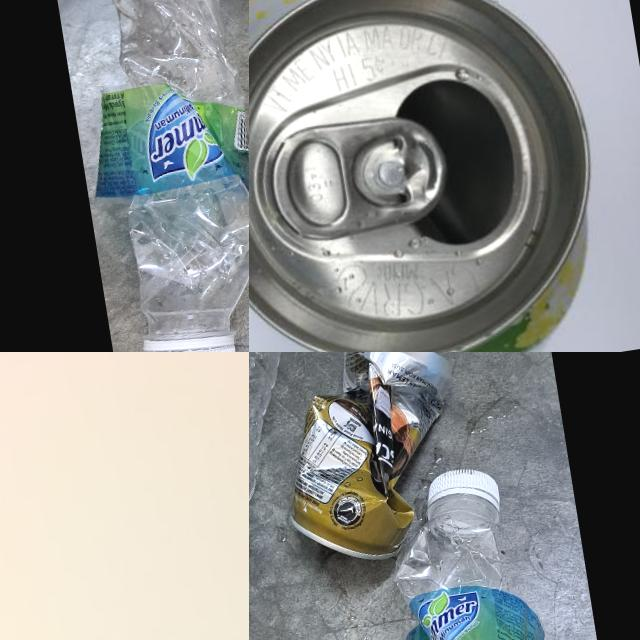aba de lata: (264, 106, 457, 247)
garrafa plástica: (56, 0, 249, 351), (380, 508, 565, 640), (249, 352, 333, 640)
lata: (249, 0, 624, 352), (264, 352, 476, 583)
tampa plástica: (422, 462, 507, 536), (139, 339, 240, 352)
